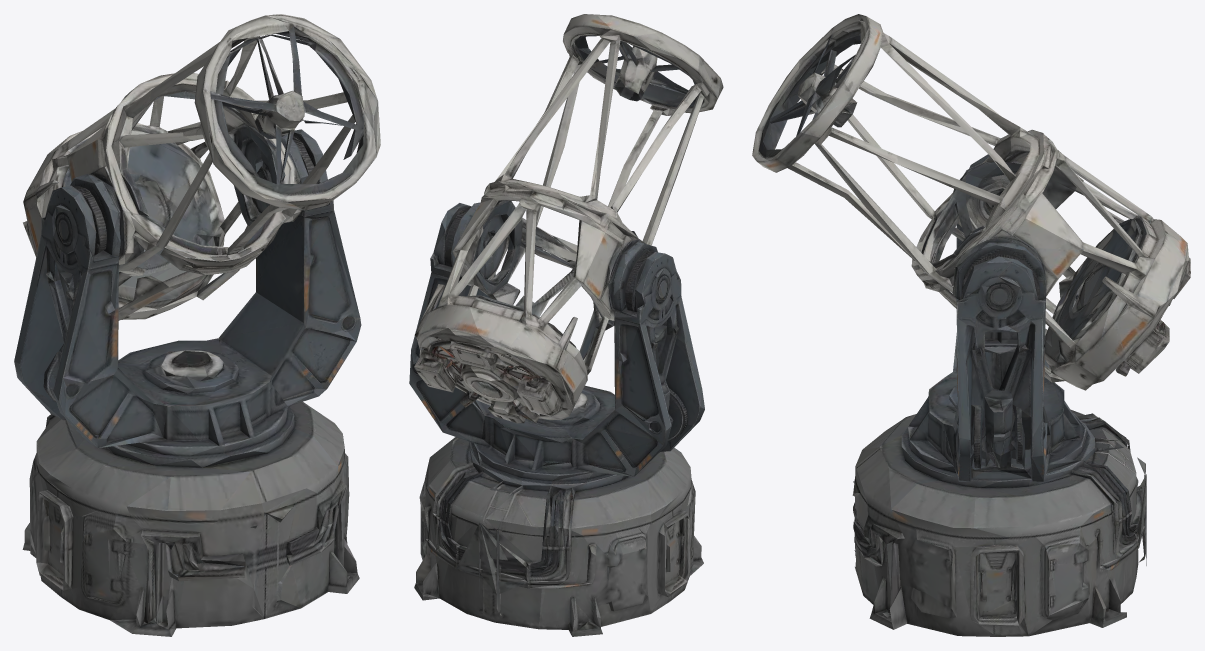
The model's file is mirror.glb.
3 views of the same model, side by side, from view 1: azimuth 30°, elevation 25°; view 2: azimuth 150°, elevation 25°; view 3: azimuth 270°, elevation 25° (orthographic). The views are drawn at different scales.
Parts seen in each view (by area): view 1: Mesh_0; view 2: Mesh_0; view 3: Mesh_0.
Part boxes in pixels (box(x1,y1,x2,y2)): Mesh_0: box(14, 14, 380, 636); Mesh_0: box(409, 14, 723, 636); Mesh_0: box(752, 14, 1190, 636).
Bounding box in the file's own units: 4.76 × 9 × 6.46.
1 material, 1 textured.
